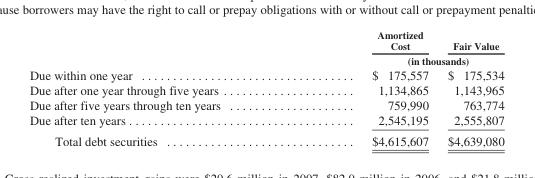table: (28, 29, 503, 147)
table column: (28, 29, 295, 147), (295, 29, 437, 147), (437, 29, 503, 147)
table column header: (28, 29, 503, 66)
table row: (28, 29, 503, 52), (28, 112, 503, 130), (28, 130, 503, 147), (28, 66, 503, 82), (28, 82, 503, 97), (28, 97, 503, 112), (28, 52, 503, 66)
table spanning cell: (295, 52, 503, 66)
